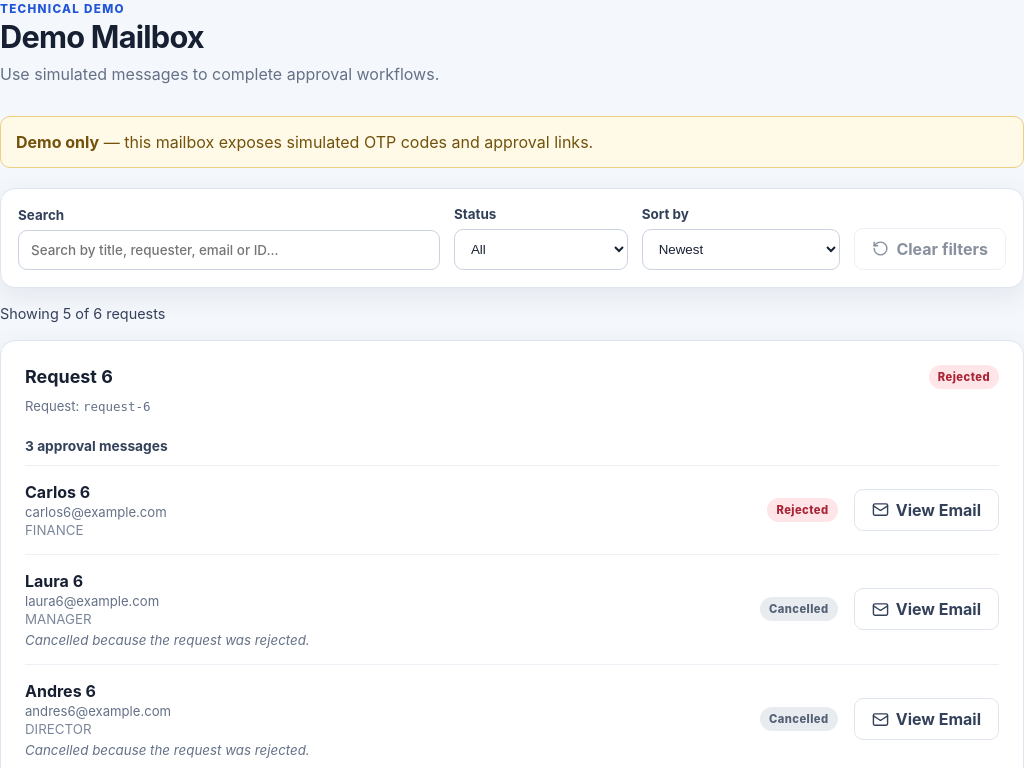
Test: MockMailPage › still expands and contracts the latest email after filtering
Type "Request 6" into the field labelled "Search" at (229, 250), box [18,230,440,270]
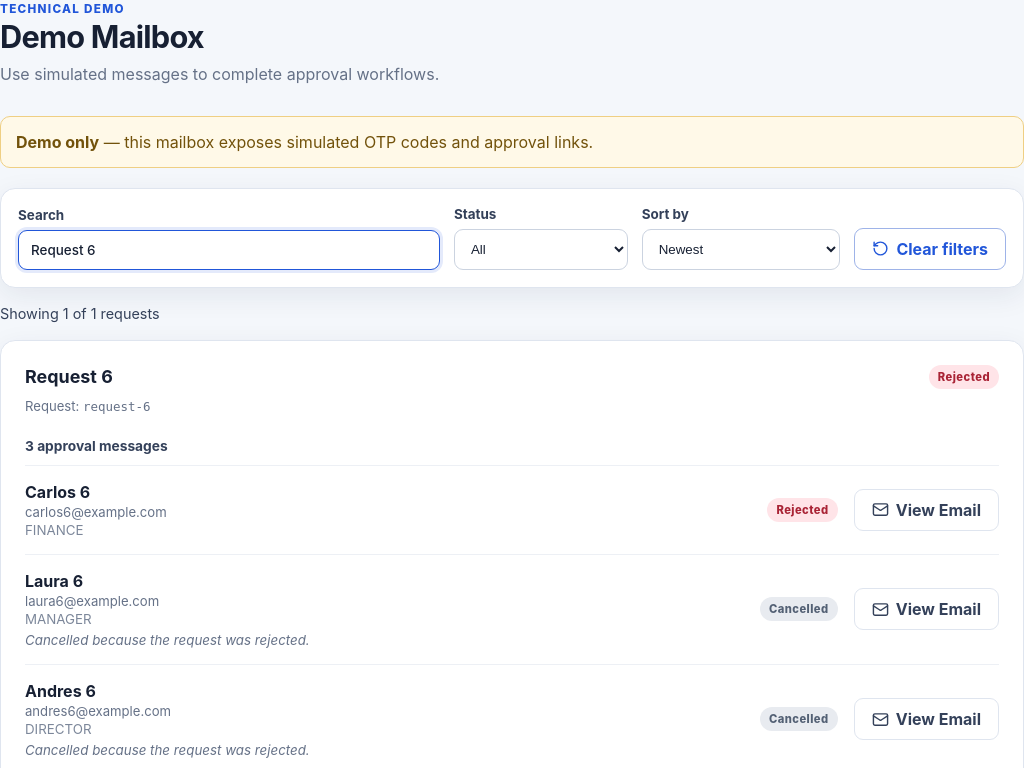
Click the button "View Email" in the row of "carlos6@example.com" at (926, 510), box [854,489,999,531]
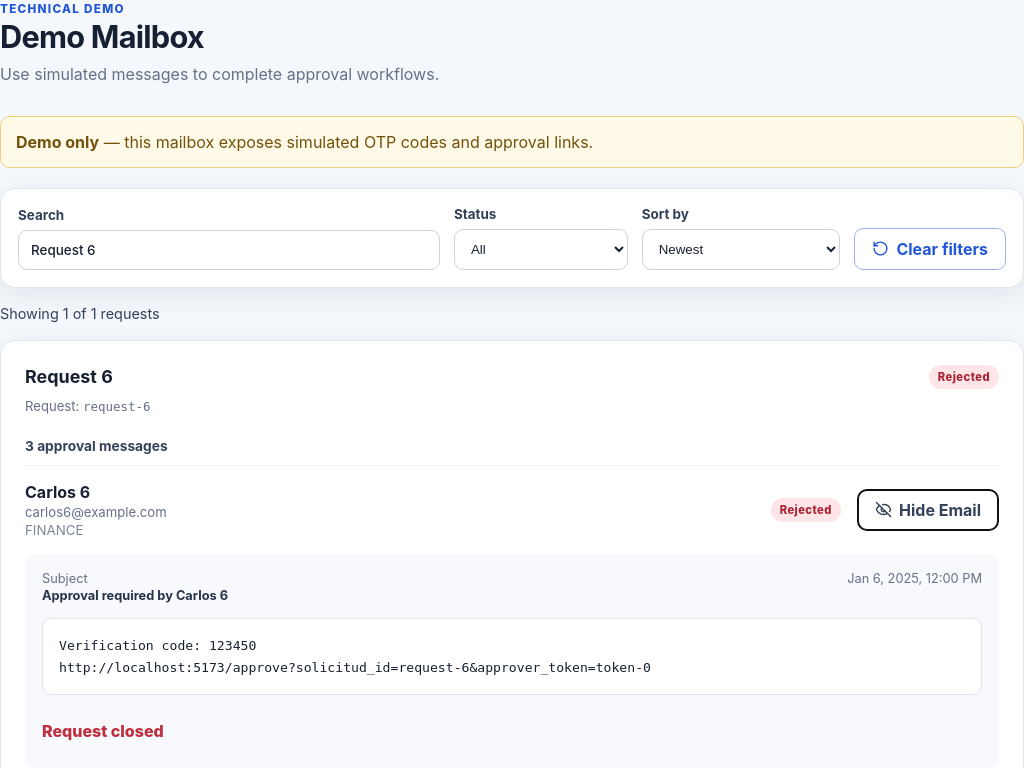
Expected: the text "Verification code" is shown, [59,638,651,674]
Click the button "Hide Email" at (928, 510), box [857,489,999,531]
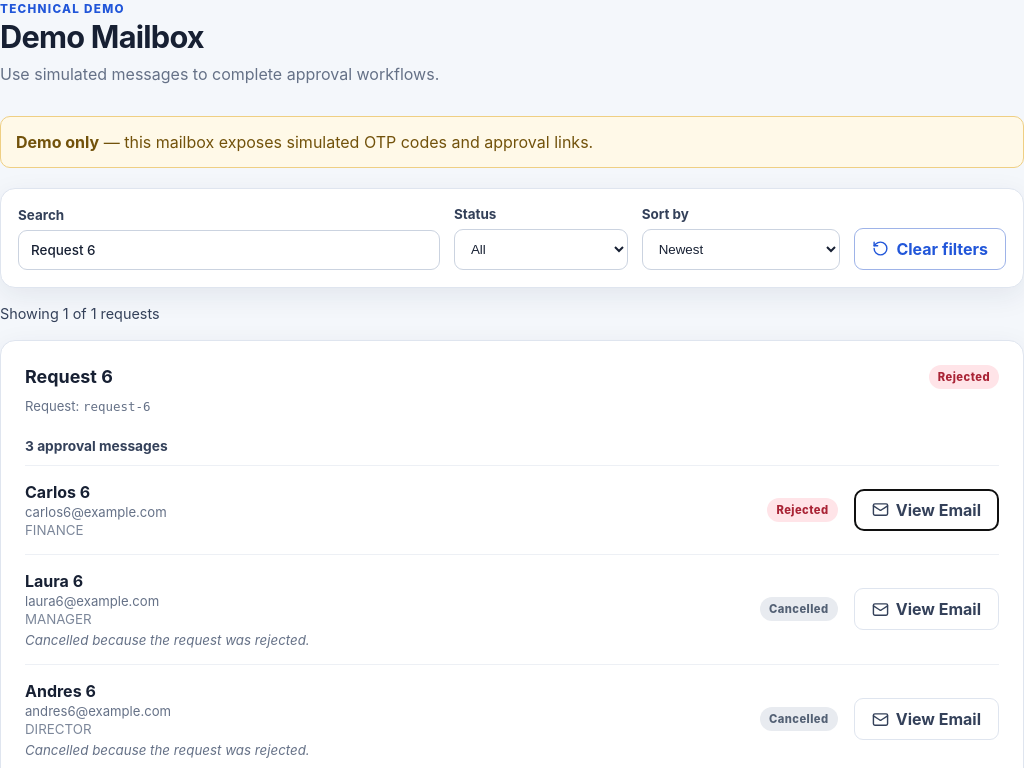
Expected: the text "Verification code" is gone
